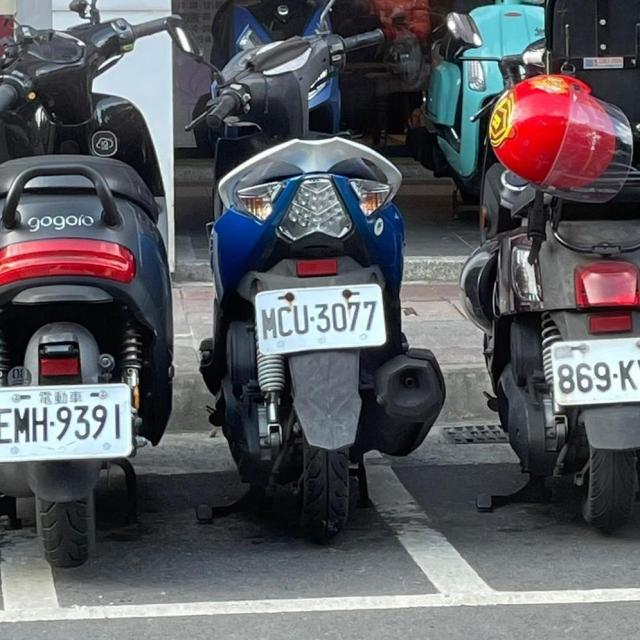W: (0, 379, 139, 466), (249, 280, 393, 358), (545, 329, 640, 412)
